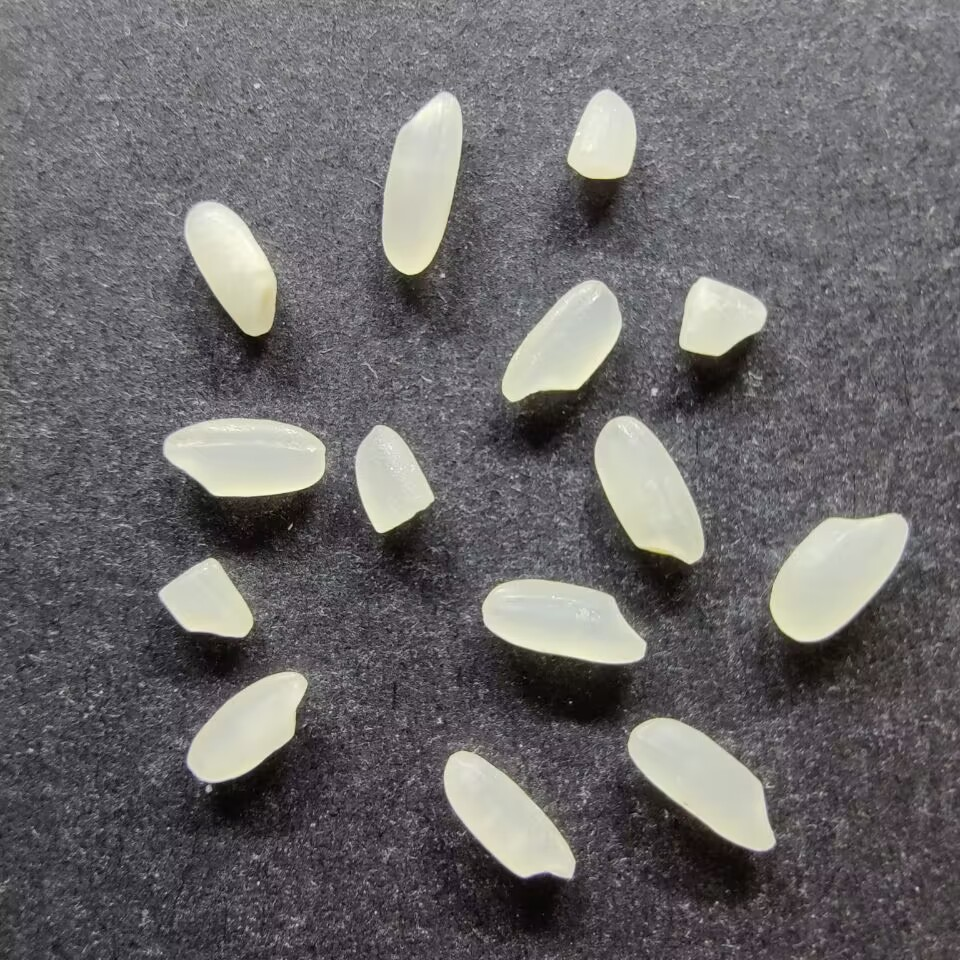broken: (351, 424, 438, 534), (154, 554, 255, 641), (677, 275, 769, 358), (564, 87, 638, 182)
rice: (625, 715, 778, 853), (767, 509, 910, 644), (440, 748, 577, 884), (592, 414, 706, 567), (378, 90, 464, 276), (499, 276, 622, 404), (479, 577, 648, 666), (184, 669, 308, 784), (161, 416, 327, 500), (182, 200, 279, 338)
